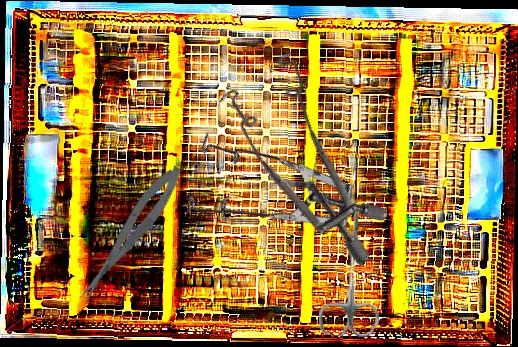Iris Scissors: (318, 202, 385, 338)
Micro Scissor: (69, 160, 190, 307)
Speculum: (184, 32, 440, 269), (156, 81, 392, 317)
